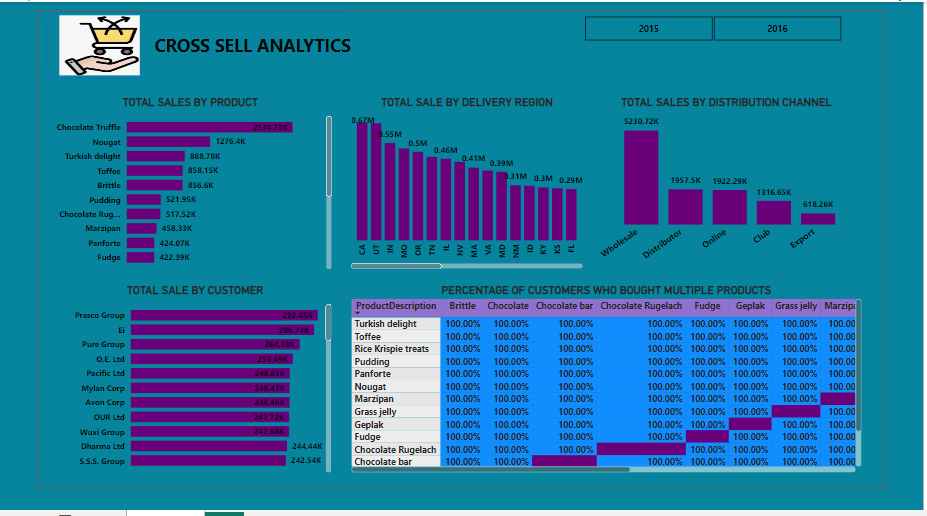

What the dashboard file says about the page in this screenshot:
{"tool":"powerbi","page":{"name":"Page 3","canvas":[1280,720],"ordinal":0},"visuals":[{"type":"shape","box":[10.1,0,469.4,100.8],"z":0},{"type":"image","box":[25.9,0,132.5,100.8],"z":1},{"type":"barChart","title":"TOTAL SALES BY PRODUCT","fields":{"Category":["Sales Orders.ProductDescription"],"Y":["Sum(Sales Orders.Total Price)"]},"box":[10.1,125.3,437.8,269.3],"z":2},{"type":"slicer","fields":{"Values":["Sales Orders.OrderDate.Variation.Date Hierarchy.Year"]},"box":[802.1,0,437.8,50.4],"z":3},{"type":"columnChart","title":"TOTAL SALES BY DISTRIBUTION CHANNEL","fields":{"Category":["Sales Orders.Customer Type"],"Y":["Sum(Sales Orders.Total Price)"]},"box":[843.8,125.3,396,269.3],"z":4},{"type":"barChart","title":"TOTAL SALE BY CUSTOMER","fields":{"Category":["Sales Orders.CustomerName"],"Y":["Sum(Sales Orders.Total Price)"]},"box":[25.9,410.4,421.9,292.3],"z":6},{"type":"pivotTable","title":"PERCENTAGE OF CUSTOMERS WHO BOUGHT MULTIPLE PRODUCTS","fields":{"Rows":["Product Budgets.ProductDescription"],"Columns":["Comparison Product.ProductDescription"],"Values":["Client Budgets.% of customers that purchased both products"]},"box":[468.2,410.6,783.3,292.4],"z":7},{"type":"columnChart","title":"TOTAL SALE BY DELIVERY REGION","fields":{"Category":["Regional Budgets.DeliveryRegion"],"Y":["Sum(Sales Orders.Total Price)"]},"box":[468.2,125.8,360.6,268.2],"z":8}]}

Visuals, with their boxes in screenshot pixels (x1, y1, x2, y2), scaled from the page's 1280x720 canvas onto the 927x516 screenshot:
shape: x1=7, y1=0, x2=347, y2=72
image: x1=19, y1=0, x2=115, y2=72
"TOTAL SALES BY PRODUCT" barChart: x1=7, y1=90, x2=324, y2=283
slicer - Sales Orders.OrderDate.Variation.Date Hierarchy.Year: x1=581, y1=0, x2=898, y2=36
"TOTAL SALES BY DISTRIBUTION CHANNEL" columnChart: x1=611, y1=90, x2=898, y2=283
"TOTAL SALE BY CUSTOMER" barChart: x1=19, y1=294, x2=324, y2=504
"PERCENTAGE OF CUSTOMERS WHO BOUGHT MULTIPLE PRODUCTS" pivotTable: x1=339, y1=294, x2=906, y2=504
"TOTAL SALE BY DELIVERY REGION" columnChart: x1=339, y1=90, x2=600, y2=282
